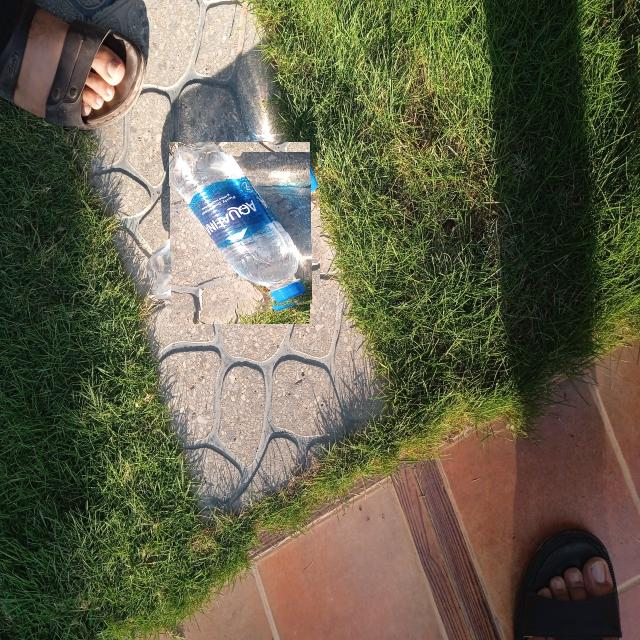Plastic: (158, 152, 320, 314)
